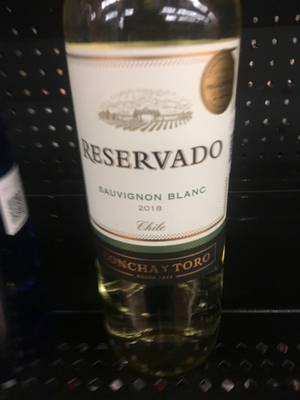reservado sauvignon blanc: (61, 11, 253, 340)
